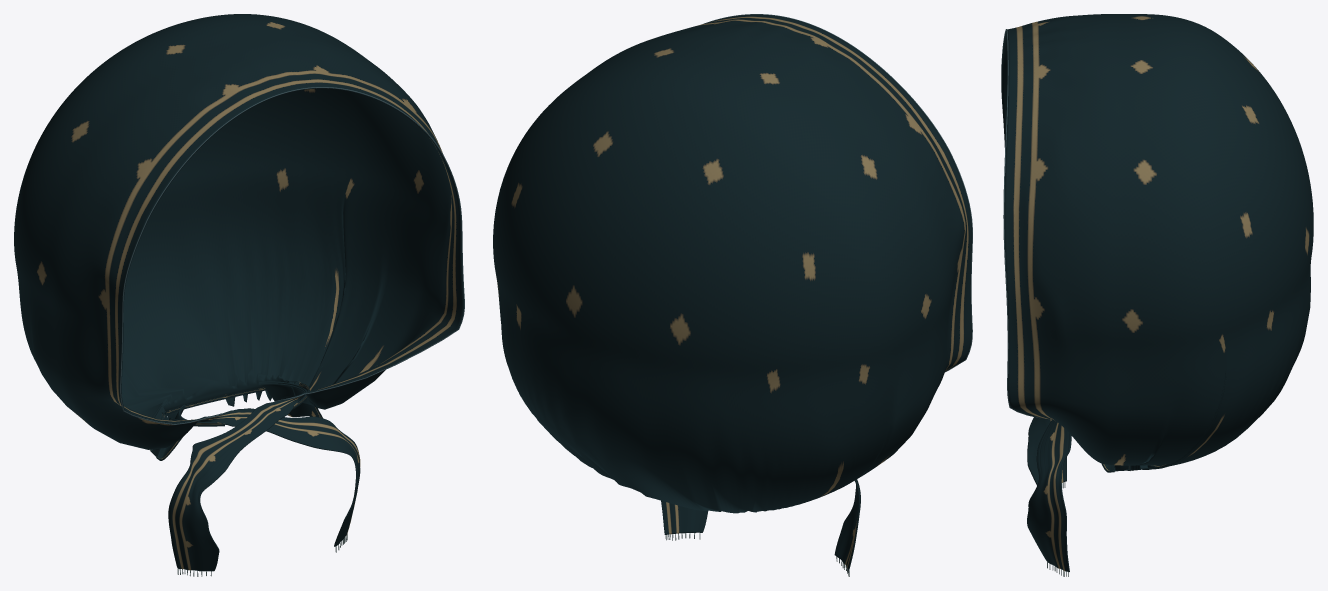
Rendered from Feminine-bob-tank-pashmina250-headgear.glb.
3 views of the same model, side by side, from view 1: azimuth 30°, elevation 25°; view 2: azimuth 150°, elevation 25°; view 3: azimuth 270°, elevation 25° (orthographic). The views are drawn at different scales.
Parts seen in each view (by area): view 1: 226 headgear / Headwear / continuous woven pashmina239, 226 headgear / Headwear / face edge239; view 2: 226 headgear / Headwear / continuous woven pashmina239, 226 headgear / Headwear / face edge239; view 3: 226 headgear / Headwear / continuous woven pashmina239, 226 headgear / Headwear / face edge239.
Part boxes in pixels (x1,y1,x2,y2): 226 headgear / Headwear / continuous woven pashmina239: (14, 14, 463, 571); 226 headgear / Headwear / face edge239: (120, 87, 464, 424); 226 headgear / Headwear / continuous woven pashmina239: (493, 14, 972, 570); 226 headgear / Headwear / face edge239: (702, 14, 972, 372); 226 headgear / Headwear / continuous woven pashmina239: (1001, 14, 1313, 571); 226 headgear / Headwear / face edge239: (1001, 29, 1043, 418).
Size of the model in its own units: 1.1 by 1.39 by 0.7846.
Materials: 3 (1 with a texture image).
